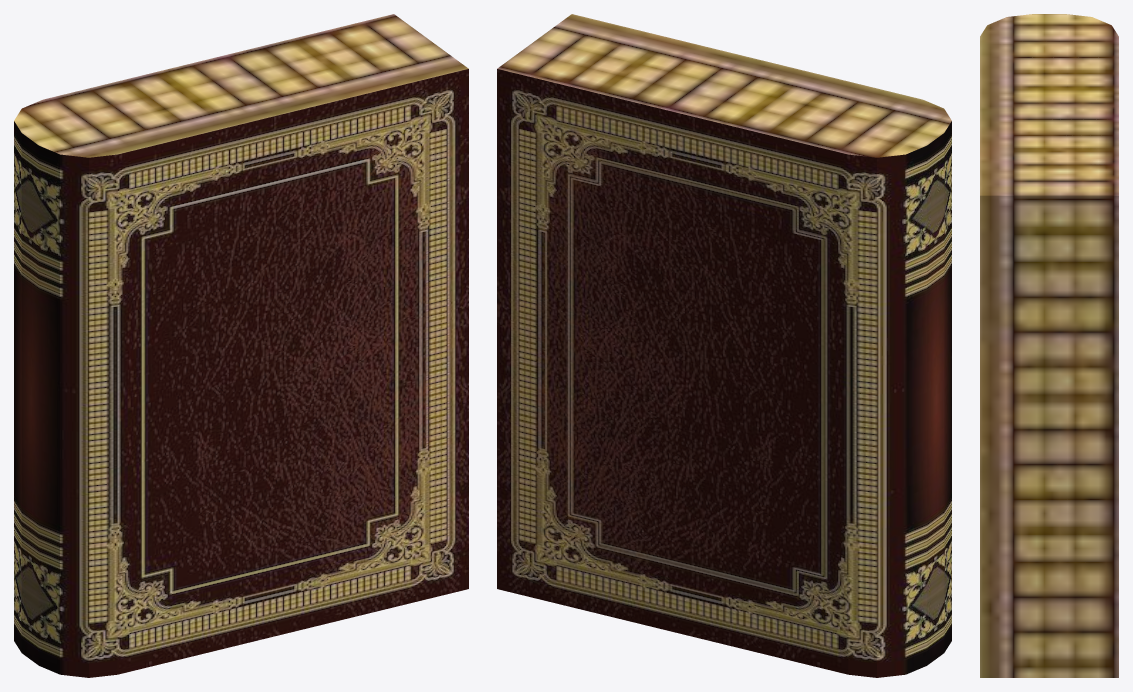
Rendered from Book.fbx.
3 renders of one model, left to right at view 1: azimuth 30°, elevation 25°; view 2: azimuth 150°, elevation 25°; view 3: azimuth 270°, elevation 25°, orthographic. The views are drawn at different scales.
Parts seen in each view (by area): view 1: Cube; view 2: Cube; view 3: Cube.
Part boxes in pixels (x1,y1,x2,y2): Cube: [14, 14, 468, 677]; Cube: [497, 14, 951, 677]; Cube: [980, 14, 1118, 677].
Bounding box in the file's own units: 200 × 248 × 64.68.
1 material, 1 textured.
